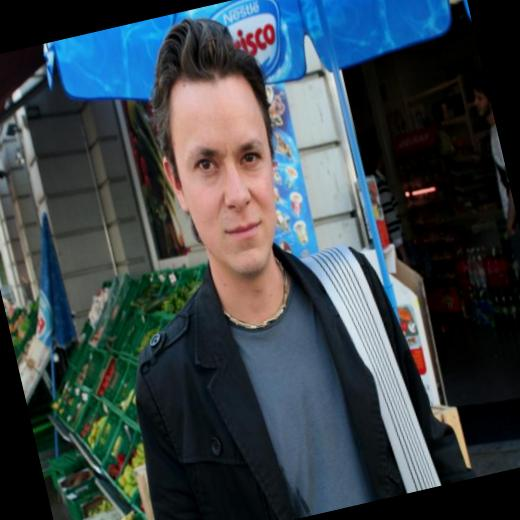Banana: (108, 509, 143, 520)
